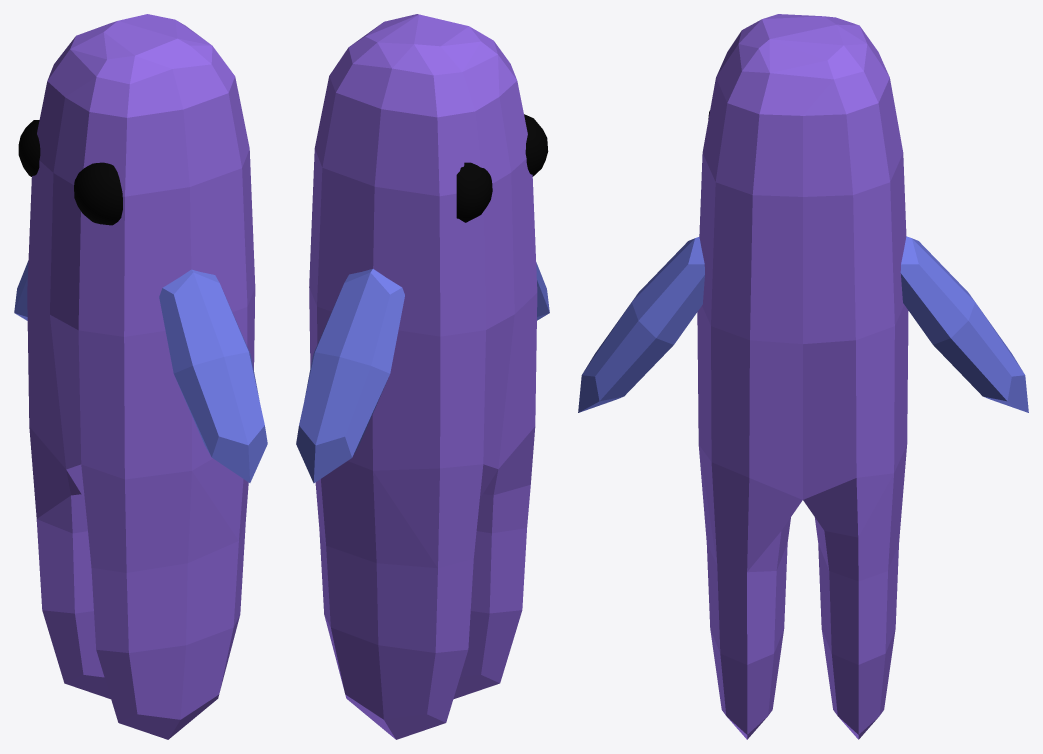
The model's file is 3dTest.fbx.
3 renders of one model, left to right at view 1: azimuth 30°, elevation 25°; view 2: azimuth 150°, elevation 25°; view 3: azimuth 270°, elevation 25°, orthographic. The views are drawn at different scales.
Visible parts, largest first — view 1: Cube; view 2: Cube; view 3: Cube.
Part boxes in pixels (x1=…): Cube: x1=14, y1=14, x2=267, y2=739; Cube: x1=296, y1=14, x2=549, y2=739; Cube: x1=578, y1=14, x2=1028, y2=739.
Bounding box in the file's own units: 196 × 705 × 405.
